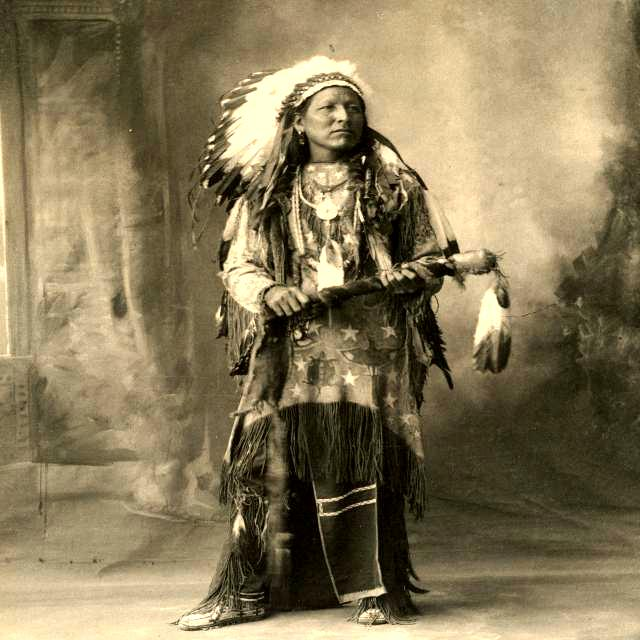no_hard_hat: (200, 56, 371, 175)
person: (179, 58, 459, 630)
